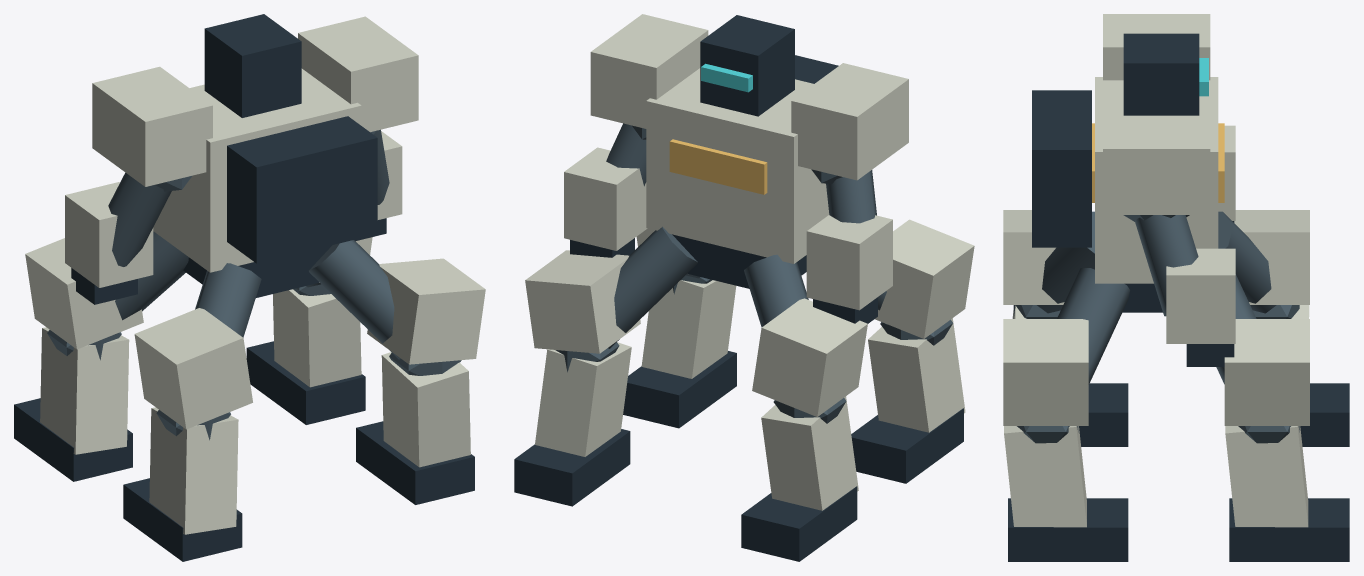
File: unit-quadruped.glb
3 renders of one model, left to right at view 1: azimuth 30°, elevation 25°; view 2: azimuth 150°, elevation 25°; view 3: azimuth 270°, elevation 25°, orthographic. The views are drawn at different scales.
Parts seen in each view (by area): view 1: unit-quadruped; view 2: unit-quadruped; view 3: unit-quadruped.
Part boxes in pixels (x1=…): unit-quadruped: x1=14, y1=14, x2=485, y2=561; unit-quadruped: x1=514, y1=14, x2=974, y2=561; unit-quadruped: x1=1003, y1=14, x2=1349, y2=561.
Bounding box in the file's own units: 1.14 × 1.54 × 1.1.
